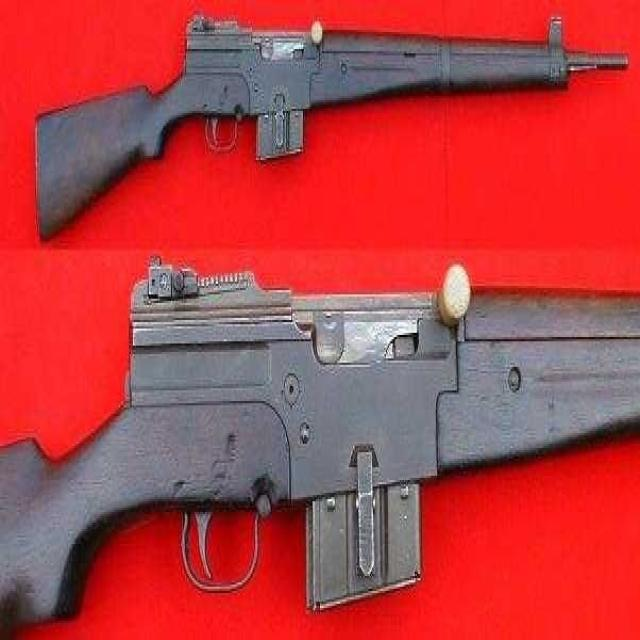heavyweapon: (2, 265, 640, 640), (10, 1, 633, 246)
